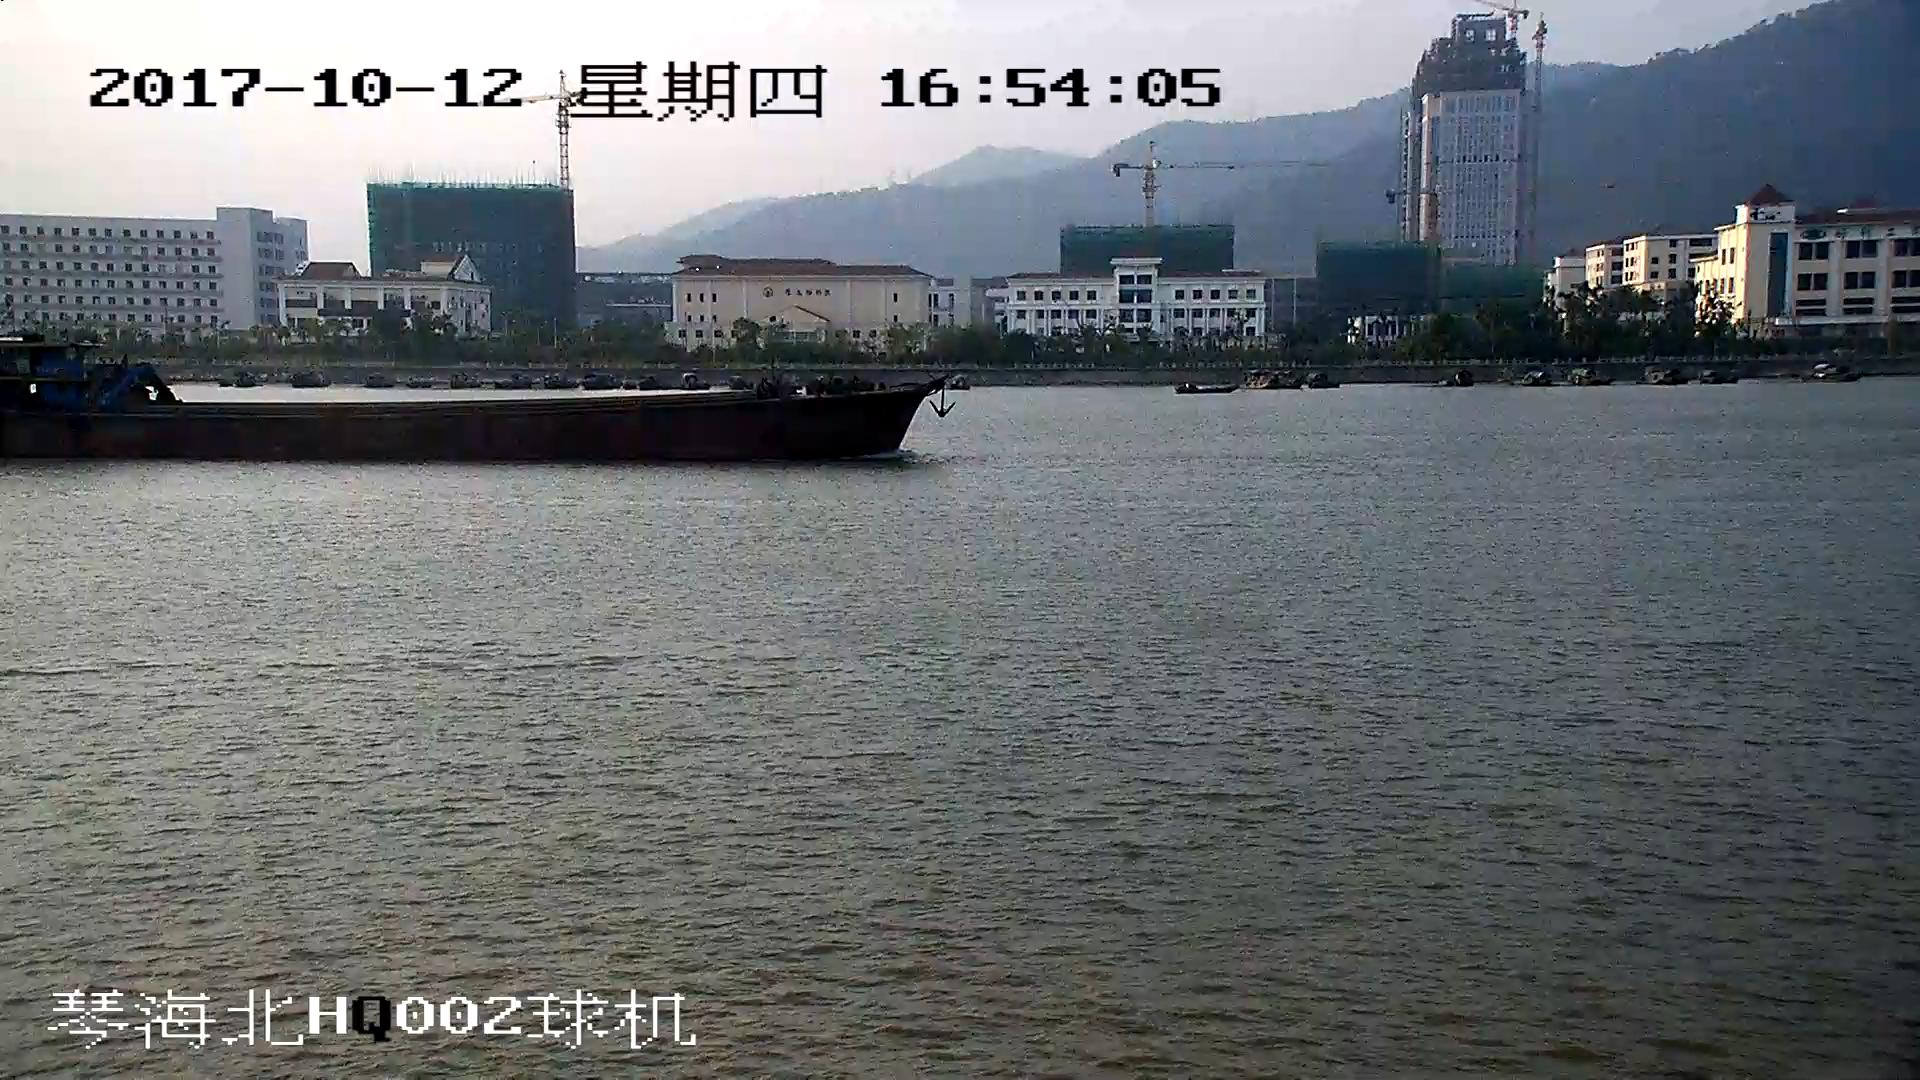bulk cargo carrier: (1, 337, 950, 466)
